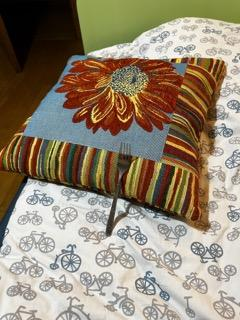fork: (105, 142, 132, 237)
